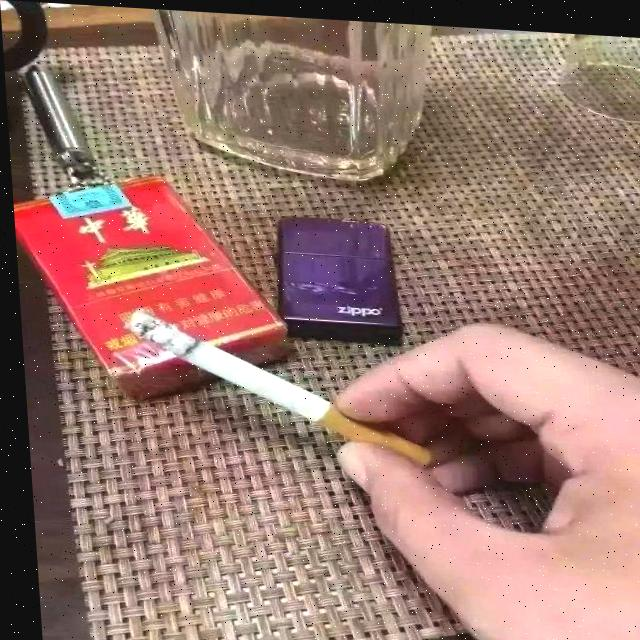cigarette: (120, 305, 423, 462)
